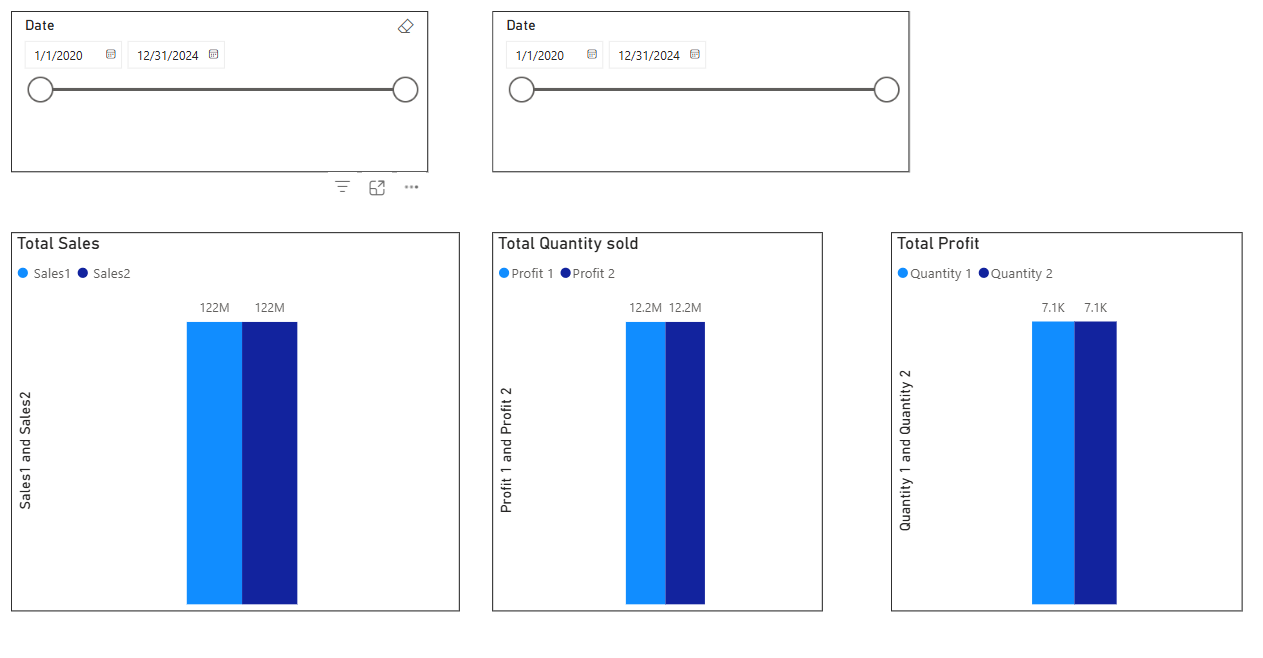

The page's visual inventory and layout, read from the dashboard file:
{"tool":"powerbi","page":{"name":"Comparison","canvas":[1280,720],"ordinal":2},"visuals":[{"type":"slicer","fields":{"Values":["Date Table 1.Date"]},"box":[0,19.2,411.7,159.2],"z":0},{"type":"slicer","fields":{"Values":["Date Table2.Date"]},"box":[474.8,19.2,411.7,159.2],"z":1000},{"type":"clusteredColumnChart","title":"Total Sales","fields":{"Y":["Sum(Fact Table.Net Sales)","Date Table 1.Sum of Net Sales"]},"box":[0,238.8,443.2,374.6],"z":2000},{"type":"clusteredColumnChart","title":"Total Quantity sold","fields":{"Y":["Sum(Fact Table.Profit)","Measures Table.Total Profit"]},"box":[474.8,238.8,326.6,374.6],"z":3000},{"type":"clusteredColumnChart","title":"Total Profit","fields":{"Y":["Sum(Fact Table.Units Sold)","Measures Table.Quantity Sold"]},"box":[868.6,238.8,347.2,374.6],"z":4000}]}

Visuals, with their boxes on the page's 1280x720 design canvas (x1, y1, x2, y2). These are canvas units, not pixel positions in the 1263x658 screenshot, which may show the page scaled, cropped or inside an application window:
slicer - Date Table 1.Date: x1=0 y1=19 x2=412 y2=178
slicer - Date Table2.Date: x1=475 y1=19 x2=886 y2=178
"Total Sales" clusteredColumnChart: x1=0 y1=239 x2=443 y2=613
"Total Quantity sold" clusteredColumnChart: x1=475 y1=239 x2=801 y2=613
"Total Profit" clusteredColumnChart: x1=869 y1=239 x2=1216 y2=613
